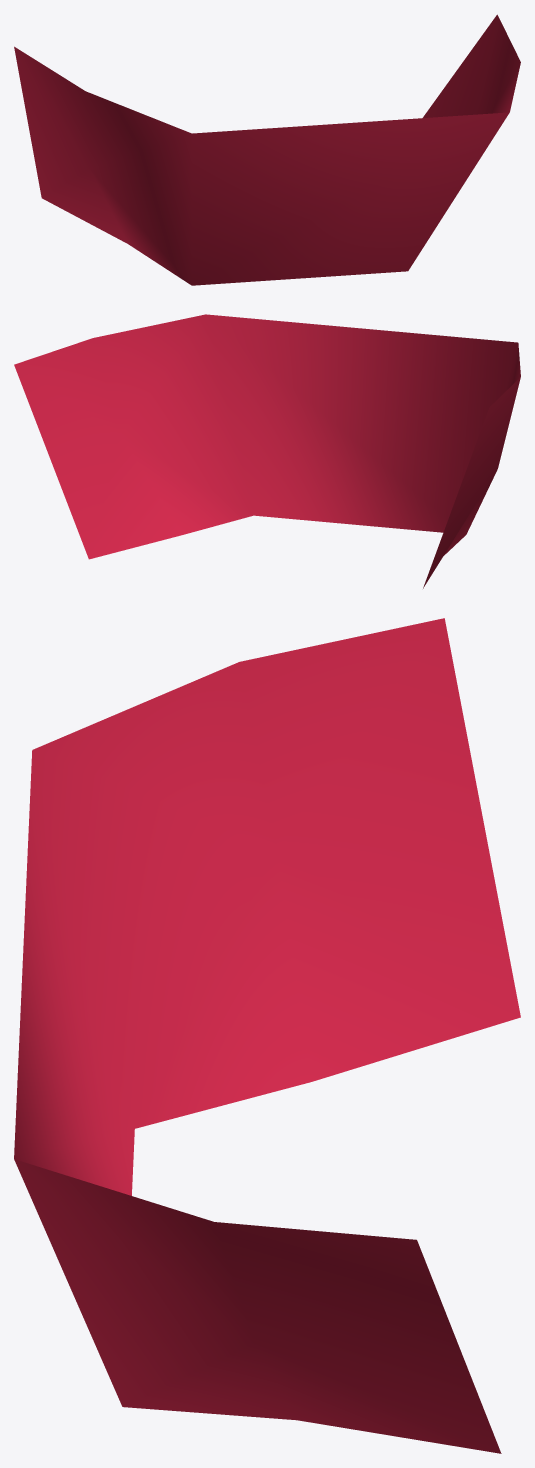
3 renders of one model, top to bottom at view 1: azimuth 30°, elevation 25°; view 2: azimuth 150°, elevation 25°; view 3: azimuth 270°, elevation 25°, orthographic. The views are drawn at different scales.
Parts seen in each view (by area): view 1: ef_418; view 2: ef_418; view 3: ef_418.
Boxes of the visible parts, x1,y1,x2,y2 form: ef_418: [14, 14, 520, 285]; ef_418: [14, 314, 520, 588]; ef_418: [14, 618, 520, 1453].
Bounding box in the file's own units: 0.7424 × 0.3609 × 0.3428.
Materials: 1 (1 with a texture image).
